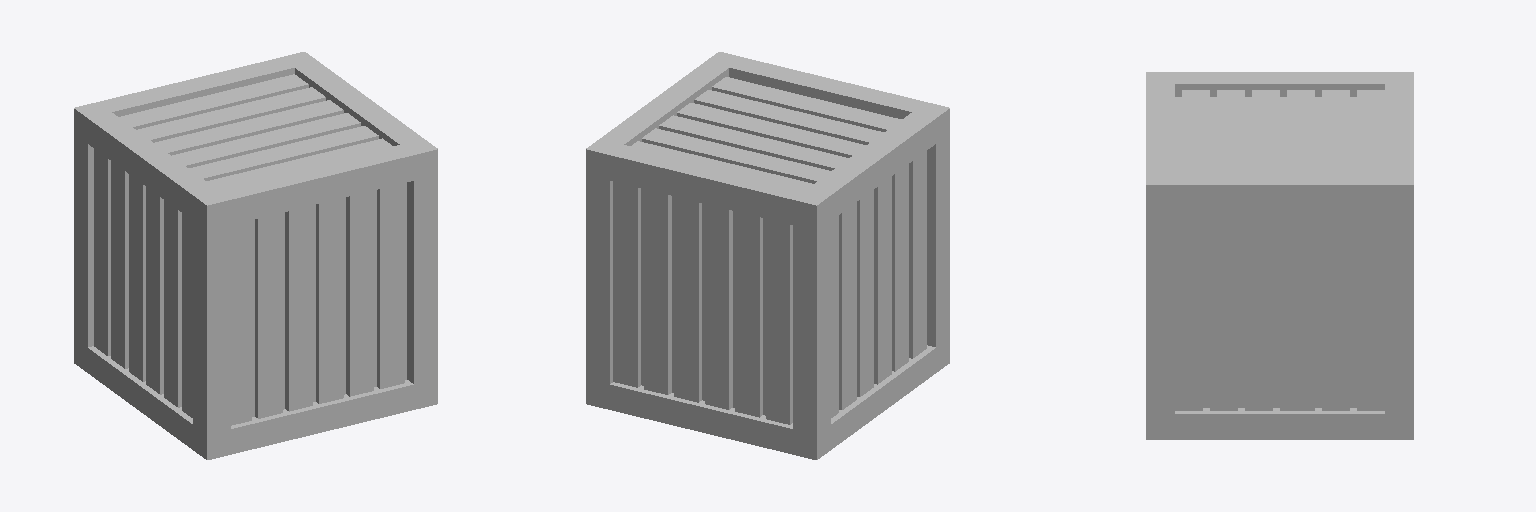
File: crate.obj
3 views of the same model, side by side, from view 1: azimuth 30°, elevation 25°; view 2: azimuth 150°, elevation 25°; view 3: azimuth 270°, elevation 25° (orthographic).
Visible parts, largest first — view 1: object 1; view 2: object 1; view 3: object 1.
Part boxes in pixels (x1,y1,x2,y2): object 1: (74,52,437,459); object 1: (586,52,949,459); object 1: (1146,72,1413,439).
Bounding box in the file's own units: 3.8 × 4 × 3.8.